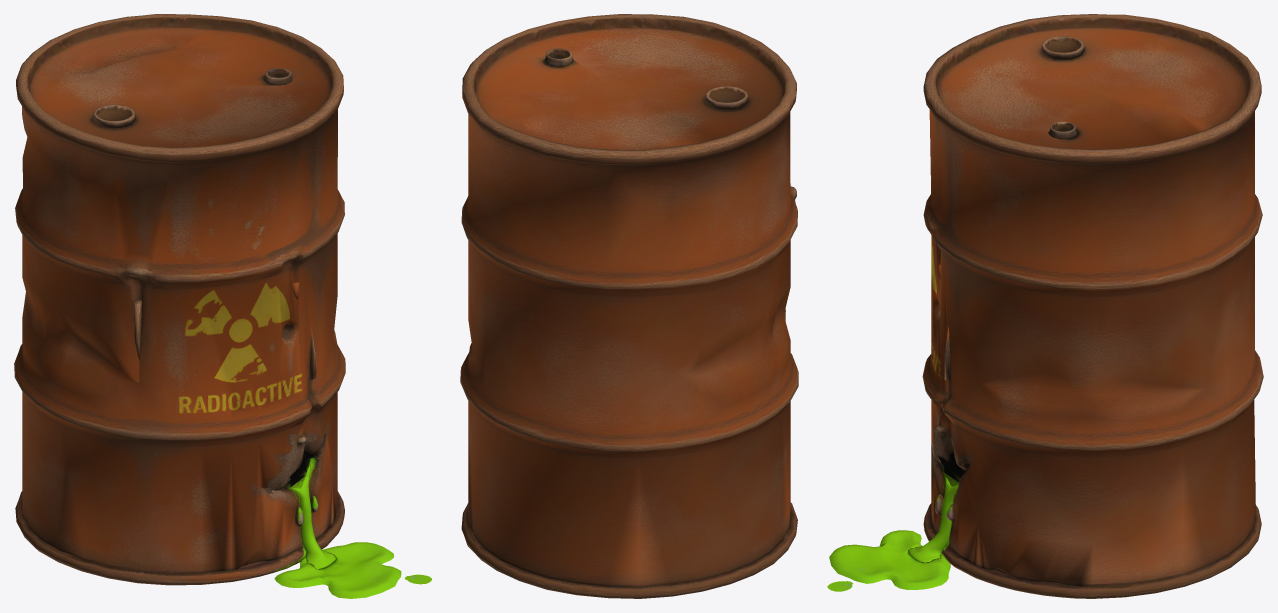
The picture shows the model from 3 angles, left to right: view 1: azimuth 30°, elevation 25°; view 2: azimuth 150°, elevation 25°; view 3: azimuth 270°, elevation 25°; orthographic projection. The views are drawn at different scales.
Visible parts, largest first — view 1: tripo_node_4fa05976-ef21-41f6-8735-fbce5c1312d1; view 2: tripo_node_4fa05976-ef21-41f6-8735-fbce5c1312d1; view 3: tripo_node_4fa05976-ef21-41f6-8735-fbce5c1312d1.
Part boxes in pixels (box(x1,y1,x2,y2)): tripo_node_4fa05976-ef21-41f6-8735-fbce5c1312d1: box(14, 14, 431, 598); tripo_node_4fa05976-ef21-41f6-8735-fbce5c1312d1: box(460, 14, 798, 598); tripo_node_4fa05976-ef21-41f6-8735-fbce5c1312d1: box(827, 14, 1263, 598).
Bounding box in the file's own units: 0.6895 × 0.998 × 0.8848.
Materials: 1 (1 with a texture image).
